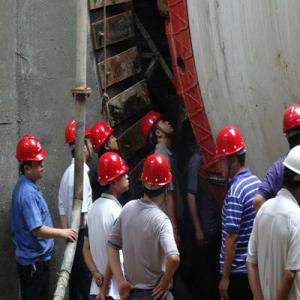red: (215, 125, 249, 179), (141, 150, 172, 204), (96, 150, 131, 196), (15, 134, 47, 184), (64, 118, 94, 163), (141, 108, 175, 145), (90, 120, 120, 155), (281, 100, 300, 144)
white: (280, 146, 300, 199)
